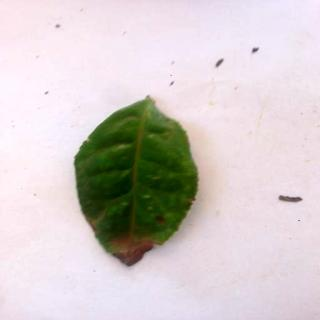Brown Blight: (75, 97, 200, 269)
